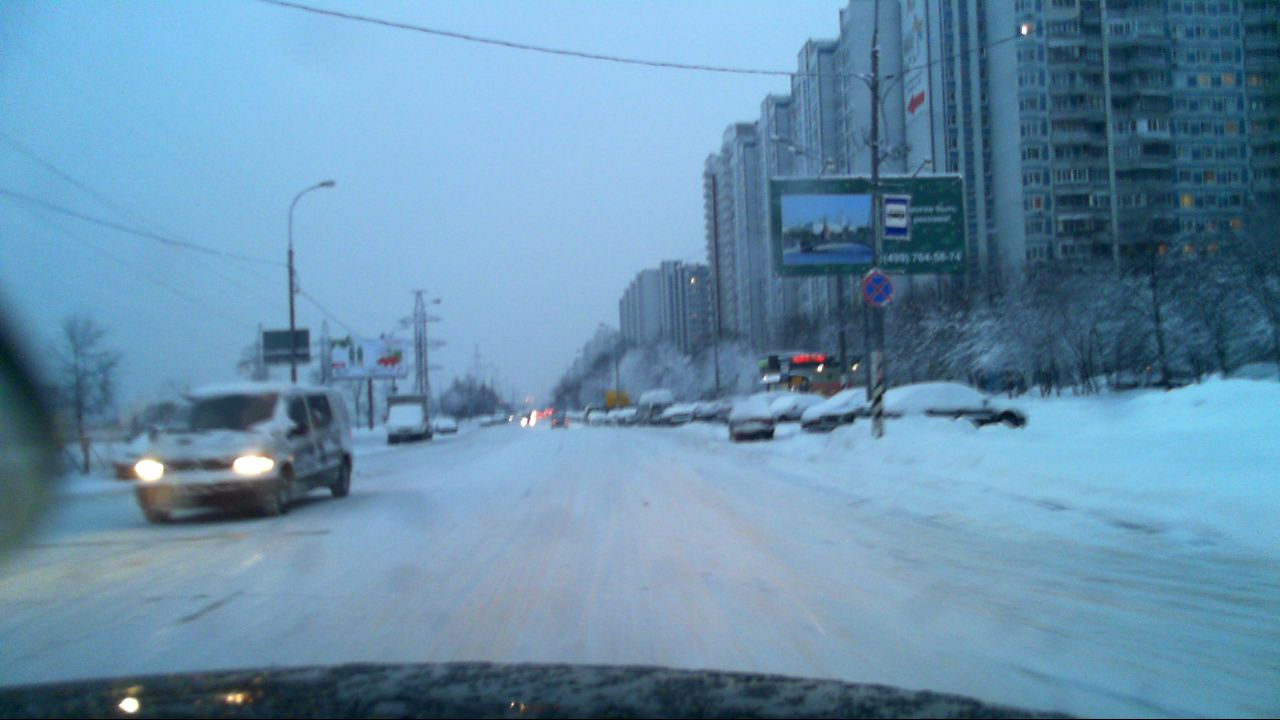No Parking: (858, 264, 899, 306)
